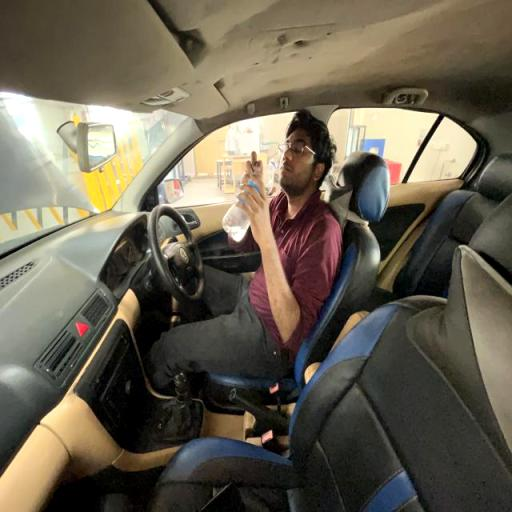Drinking: (199, 110, 344, 364)
